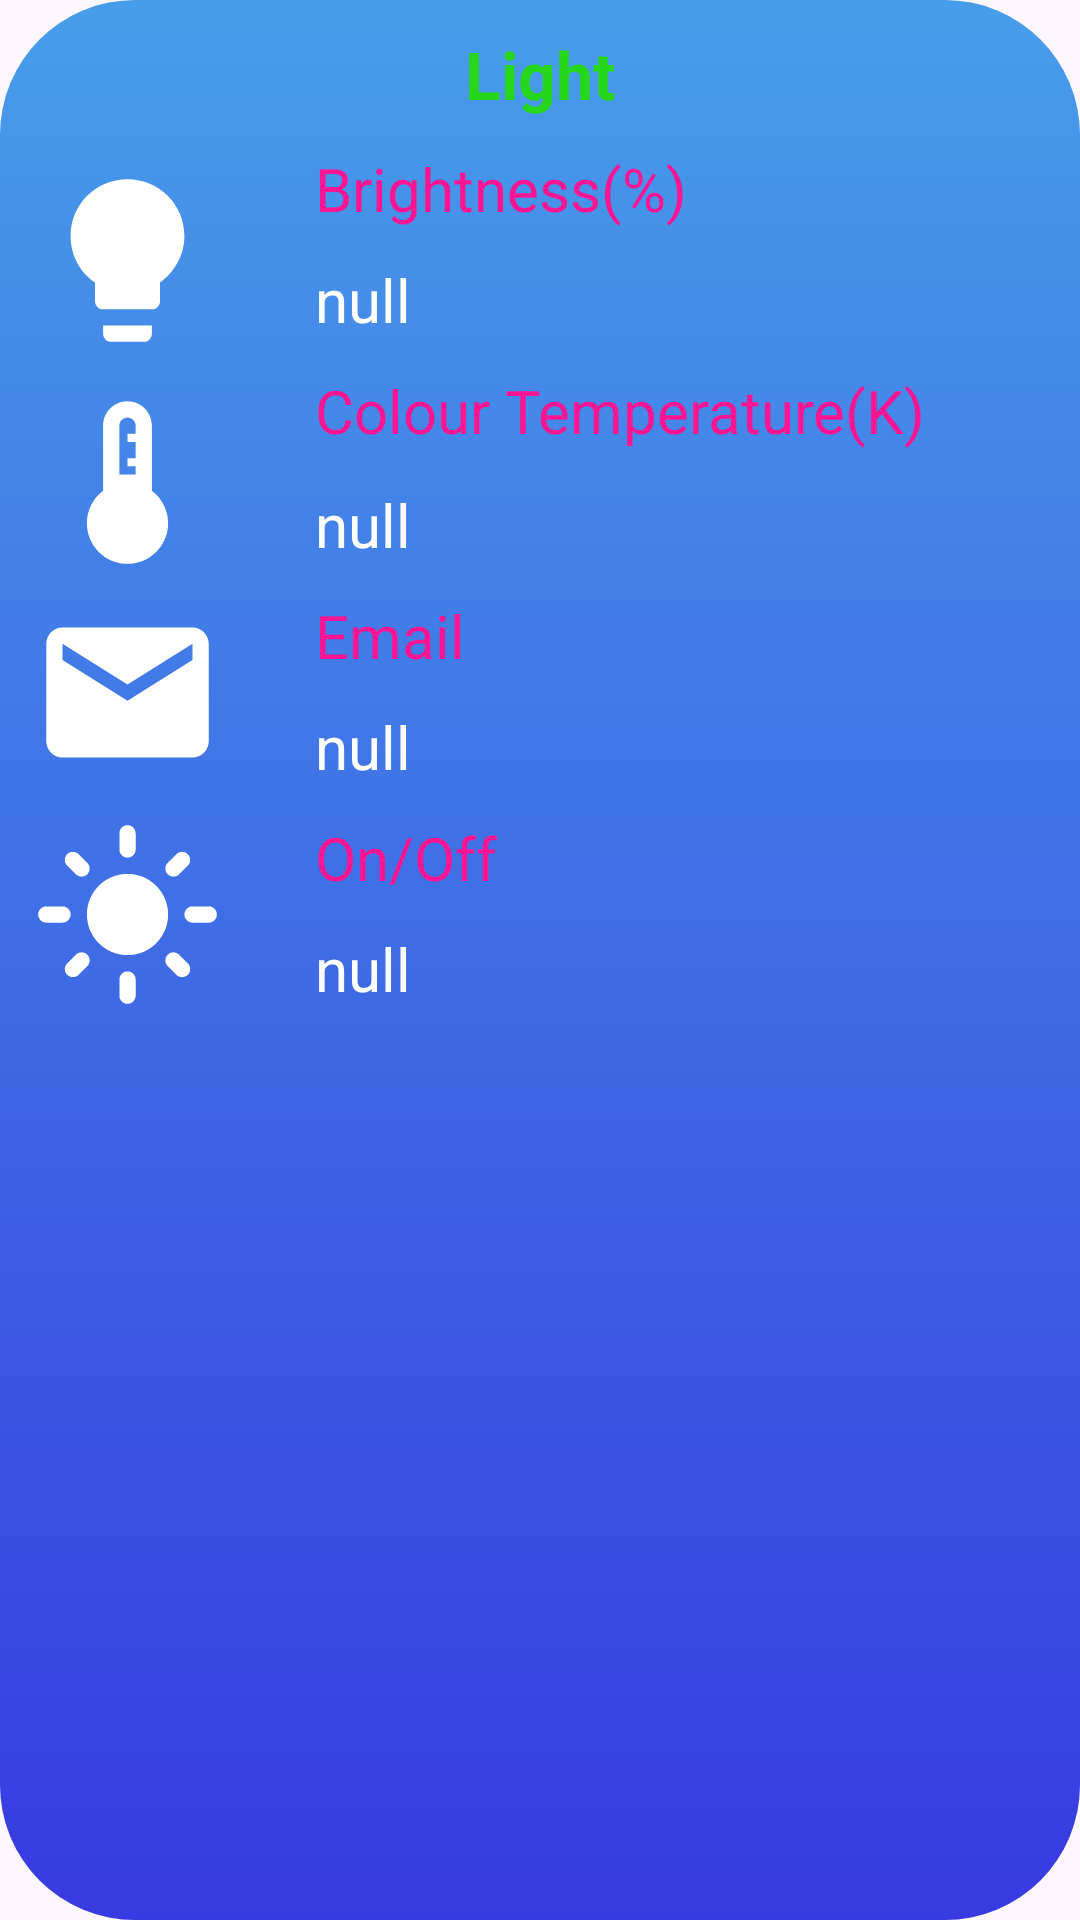

Locate icon controls on the screen. Image size 1080x1920, boxes as bbox=(x1, y1, x2, y2).
lightbulb: bbox=(70, 179, 185, 342)
thermostat: bbox=(87, 401, 168, 564)
